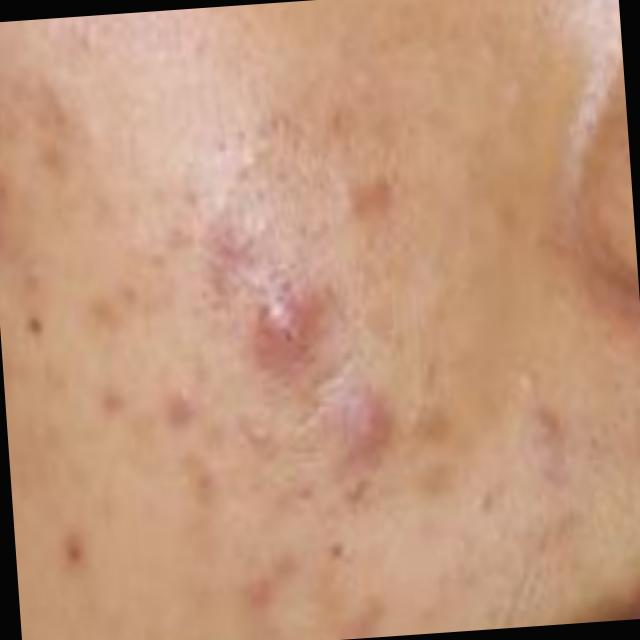blackhead: (326, 536, 346, 565), (26, 312, 44, 339)
nodule: (253, 282, 316, 370), (330, 382, 394, 460)
